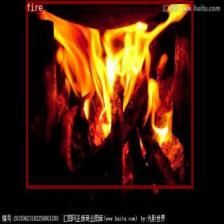fire: (26, 0, 193, 188)
